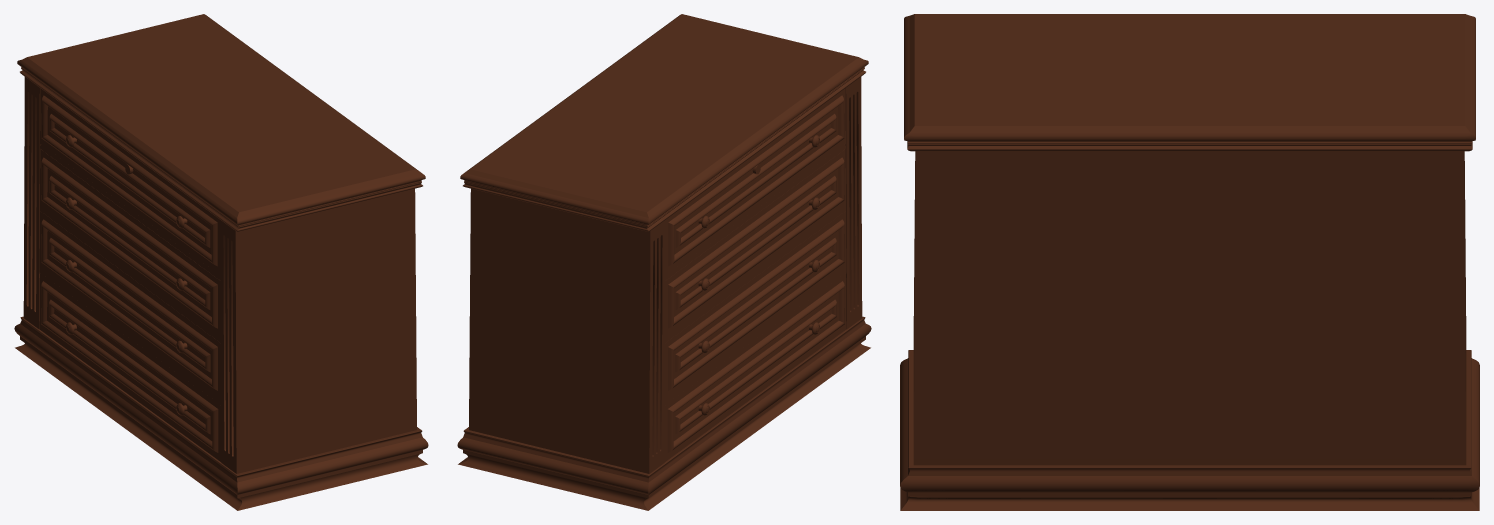
The model's file is Dresser.fbx.
The picture shows the model from 3 angles, left to right: view 1: azimuth 30°, elevation 25°; view 2: azimuth 150°, elevation 25°; view 3: azimuth 270°, elevation 25°; orthographic projection. The views are drawn at different scales.
Parts seen in each view (by area): view 1: Dresser, boxes4, boxes3, boxes2, boxes1, drawer_holders; view 2: Dresser, boxes4, boxes3, boxes2, boxes1, drawer_holders; view 3: Dresser.
Boxes of the visible parts, x1=… form: Dresser: x1=14, y1=14, x2=428, y2=510; boxes4: x1=39, y1=273, x2=221, y2=461; boxes3: x1=39, y1=211, x2=221, y2=400; boxes2: x1=40, y1=149, x2=220, y2=337; boxes1: x1=40, y1=88, x2=220, y2=275; drawer_holders: x1=39, y1=144, x2=221, y2=404; Dresser: x1=457, y1=14, x2=871, y2=510; boxes4: x1=664, y1=273, x2=846, y2=461; boxes3: x1=664, y1=211, x2=846, y2=400; boxes2: x1=665, y1=149, x2=845, y2=337; boxes1: x1=665, y1=88, x2=845, y2=275; drawer_holders: x1=664, y1=144, x2=846, y2=404; Dresser: x1=900, y1=14, x2=1479, y2=510.
Size of the model in its own units: 62.85 by 90.5 by 125.
